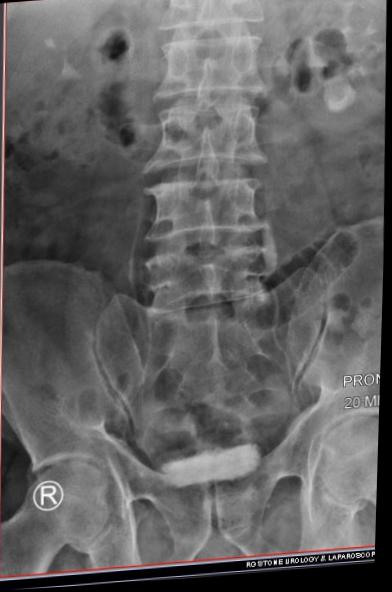vertebrae: (156, 0, 266, 37)
